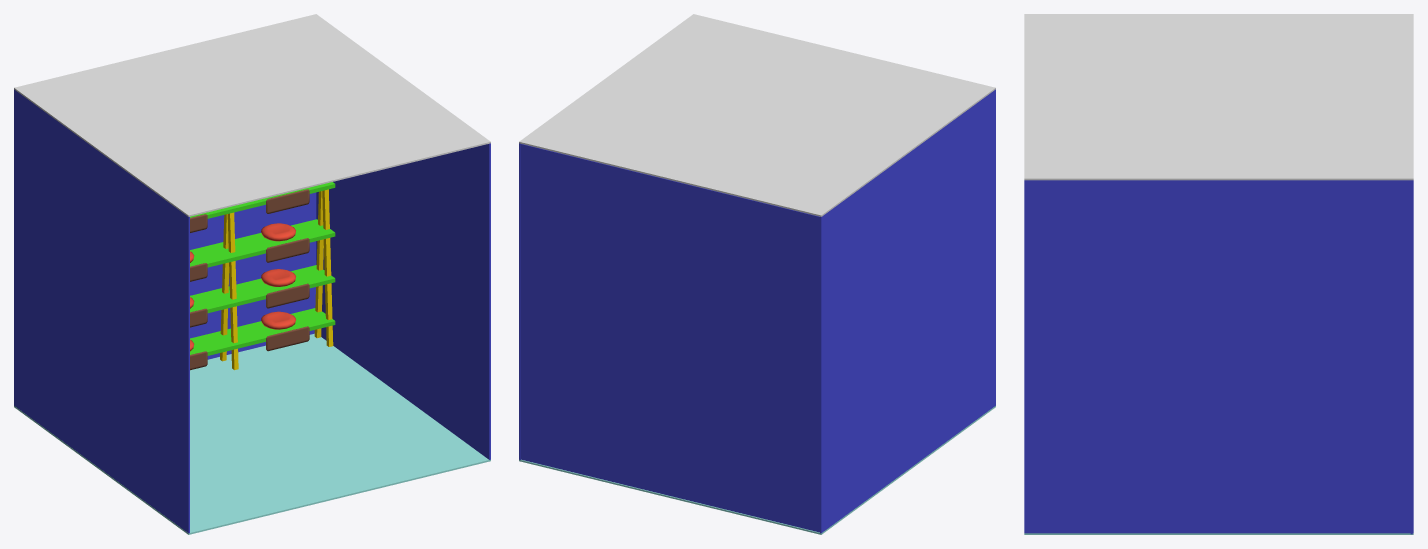
The model's file is Loja.fbx.
3 views of the same model, side by side, from view 1: azimuth 30°, elevation 25°; view 2: azimuth 150°, elevation 25°; view 3: azimuth 270°, elevation 25° (orthographic). The views are drawn at different scales.
Visible parts, largest first — view 1: Parede.002, Teto, Parede.001, Piso, Parede, Prateleira.002, Prateleira.005, Prateleira.003, Cube.014, Cube.006, Prateleira.004, Placa.009 (+3 smaller); view 2: Parede, Parede.002, Teto, Piso, Parede.001; view 3: Parede.001, Teto, Parede, Piso.
Boxes of the visible parts, box(x1,y1,x2,y2) form: Parede.002: box(14, 89, 189, 533); Teto: box(14, 14, 490, 216); Parede.001: box(316, 143, 490, 459); Piso: box(14, 333, 490, 534); Parede: box(190, 192, 316, 359); Prateleira.002: box(190, 308, 335, 355); Prateleira.005: box(190, 219, 335, 267); Prateleira.003: box(190, 265, 335, 313); Cube.014: box(314, 189, 333, 346); Cube.006: box(220, 212, 238, 370); Prateleira.004: box(190, 182, 335, 218); Placa.009: box(266, 326, 309, 351); Parede: box(521, 144, 819, 532); Parede.002: box(820, 89, 995, 533); Teto: box(519, 14, 995, 216); Piso: box(519, 406, 995, 534); Parede.001: box(519, 143, 520, 459); Parede.001: box(1024, 180, 1413, 533); Teto: box(1024, 14, 1413, 180); Parede: box(1410, 181, 1412, 534); Piso: box(1024, 533, 1413, 534).
Bounding box in the file's own units: 1040 × 1049 × 1038.
